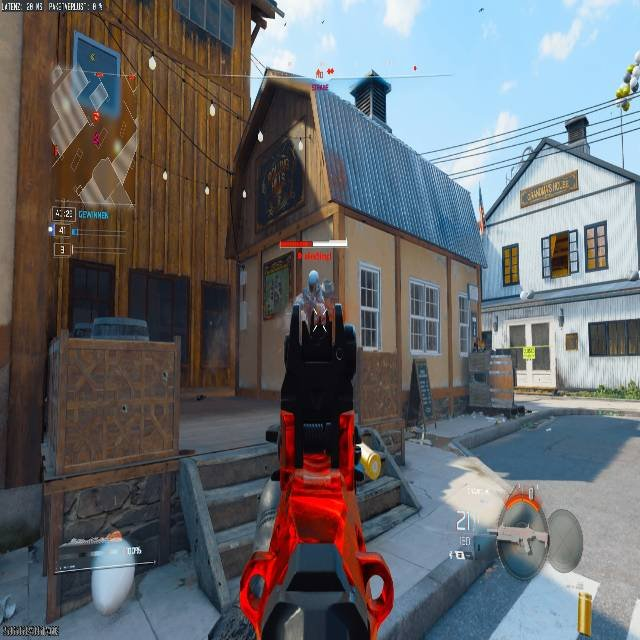head: (305, 272, 324, 294), (307, 270, 320, 288)
player: (278, 272, 358, 426), (291, 269, 329, 335)
